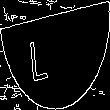L_N: (44, 27, 66, 83)
